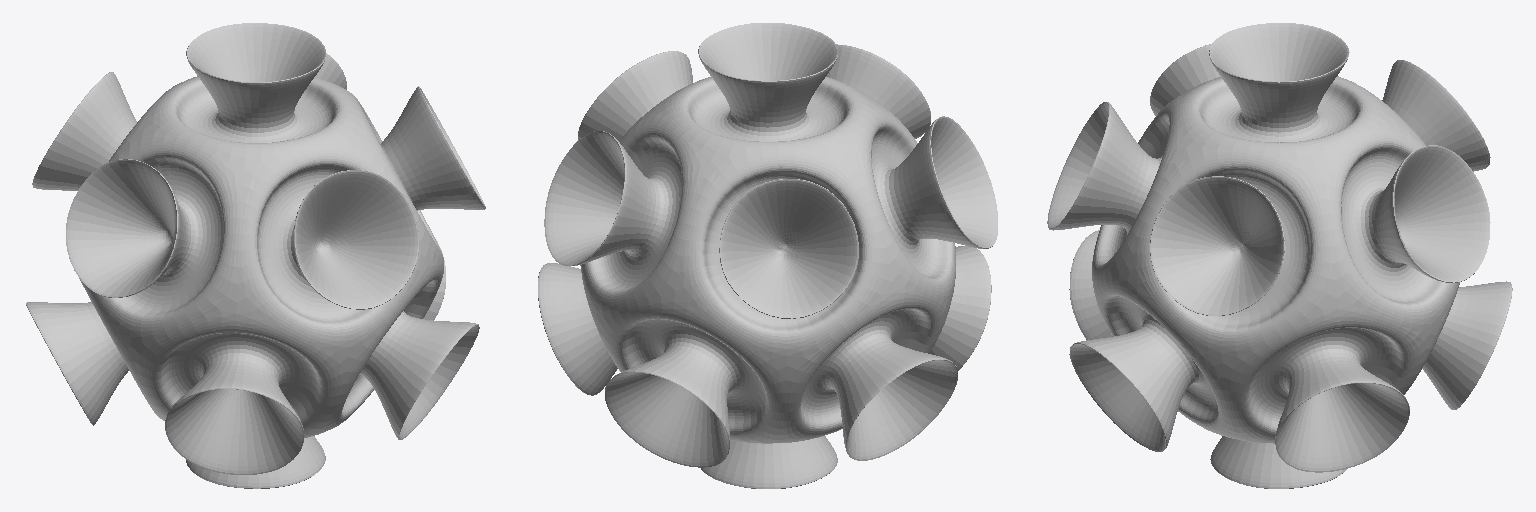
File: hornball.obj
3 views of the same model, side by side, from view 1: azimuth 30°, elevation 25°; view 2: azimuth 150°, elevation 25°; view 3: azimuth 270°, elevation 25° (orthographic).
Visible parts, largest first — view 1: 3; view 2: 3; view 3: 3.
Part boxes in pixels (x1,y1,x2,y2): 3: (26, 23, 485, 488); 3: (538, 23, 997, 488); 3: (1047, 23, 1512, 488).
Size of the model in its own units: 3.95 by 3.91 by 4.04.